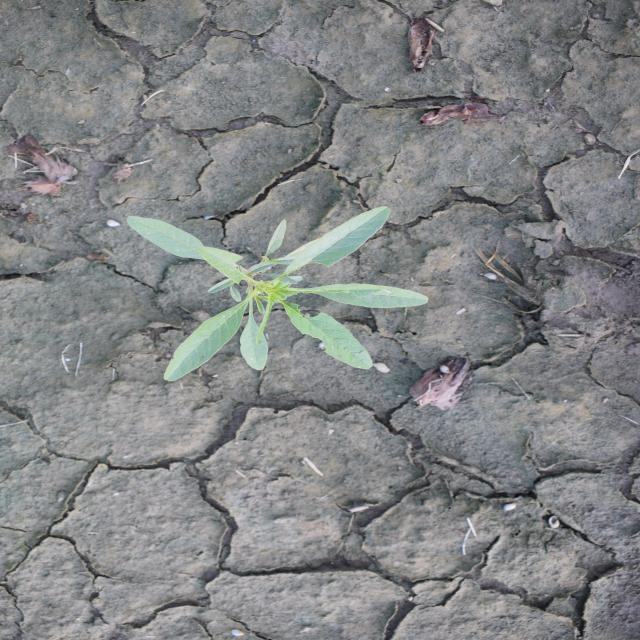Waterhemp: (124, 203, 434, 382)
